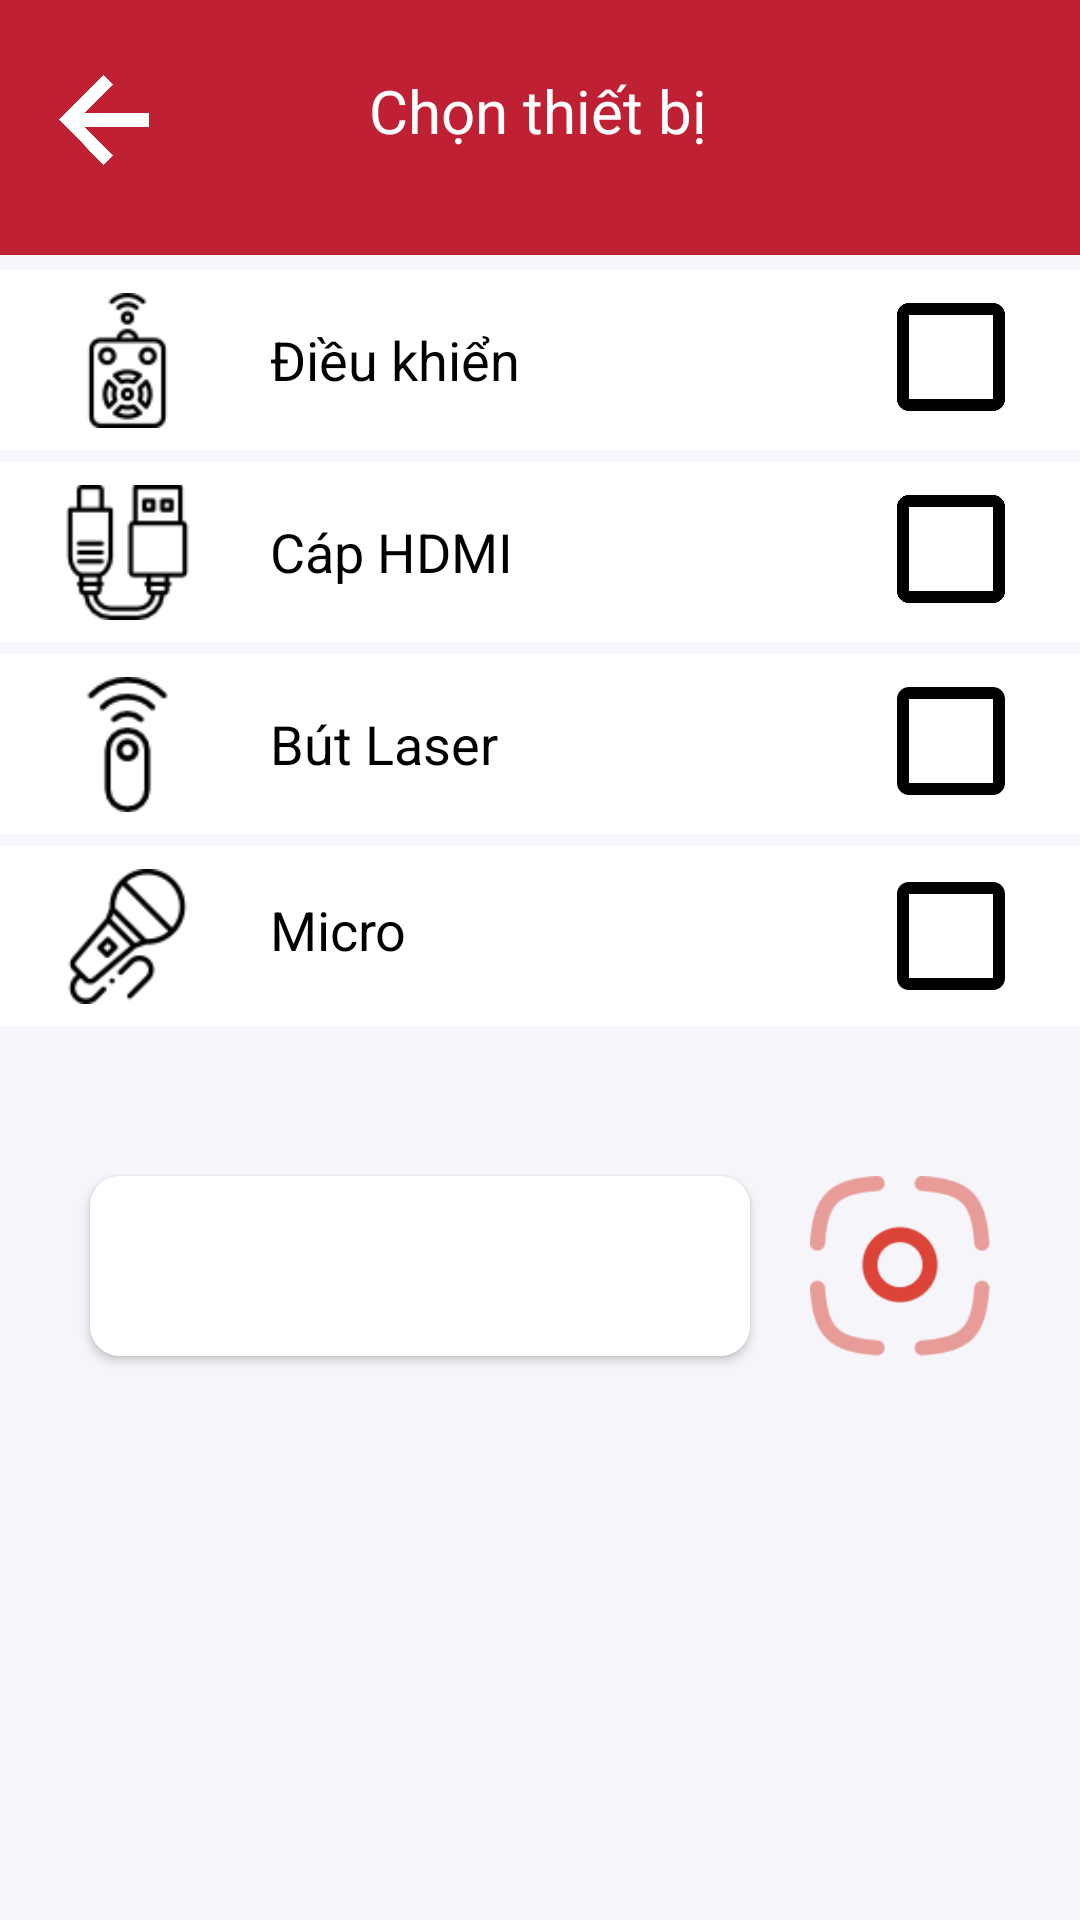

Where icons sit on this 1080 × 1920 app screen, as (x1, y1, x2, y2):
remote: (88, 293, 167, 428)
scanning: (810, 1176, 990, 1356)
